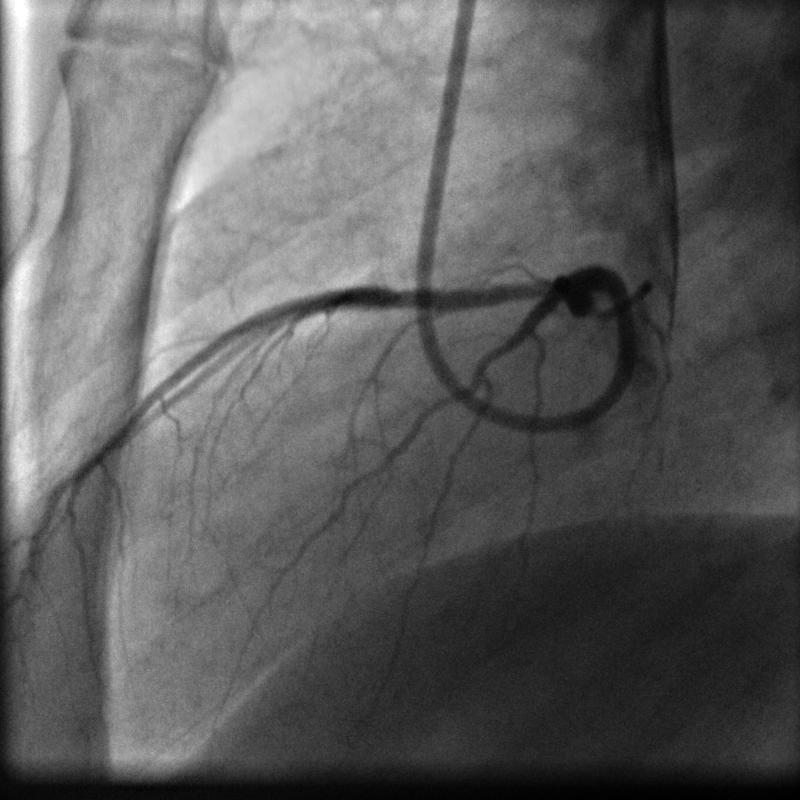Stenosis: (378, 281, 409, 313)
